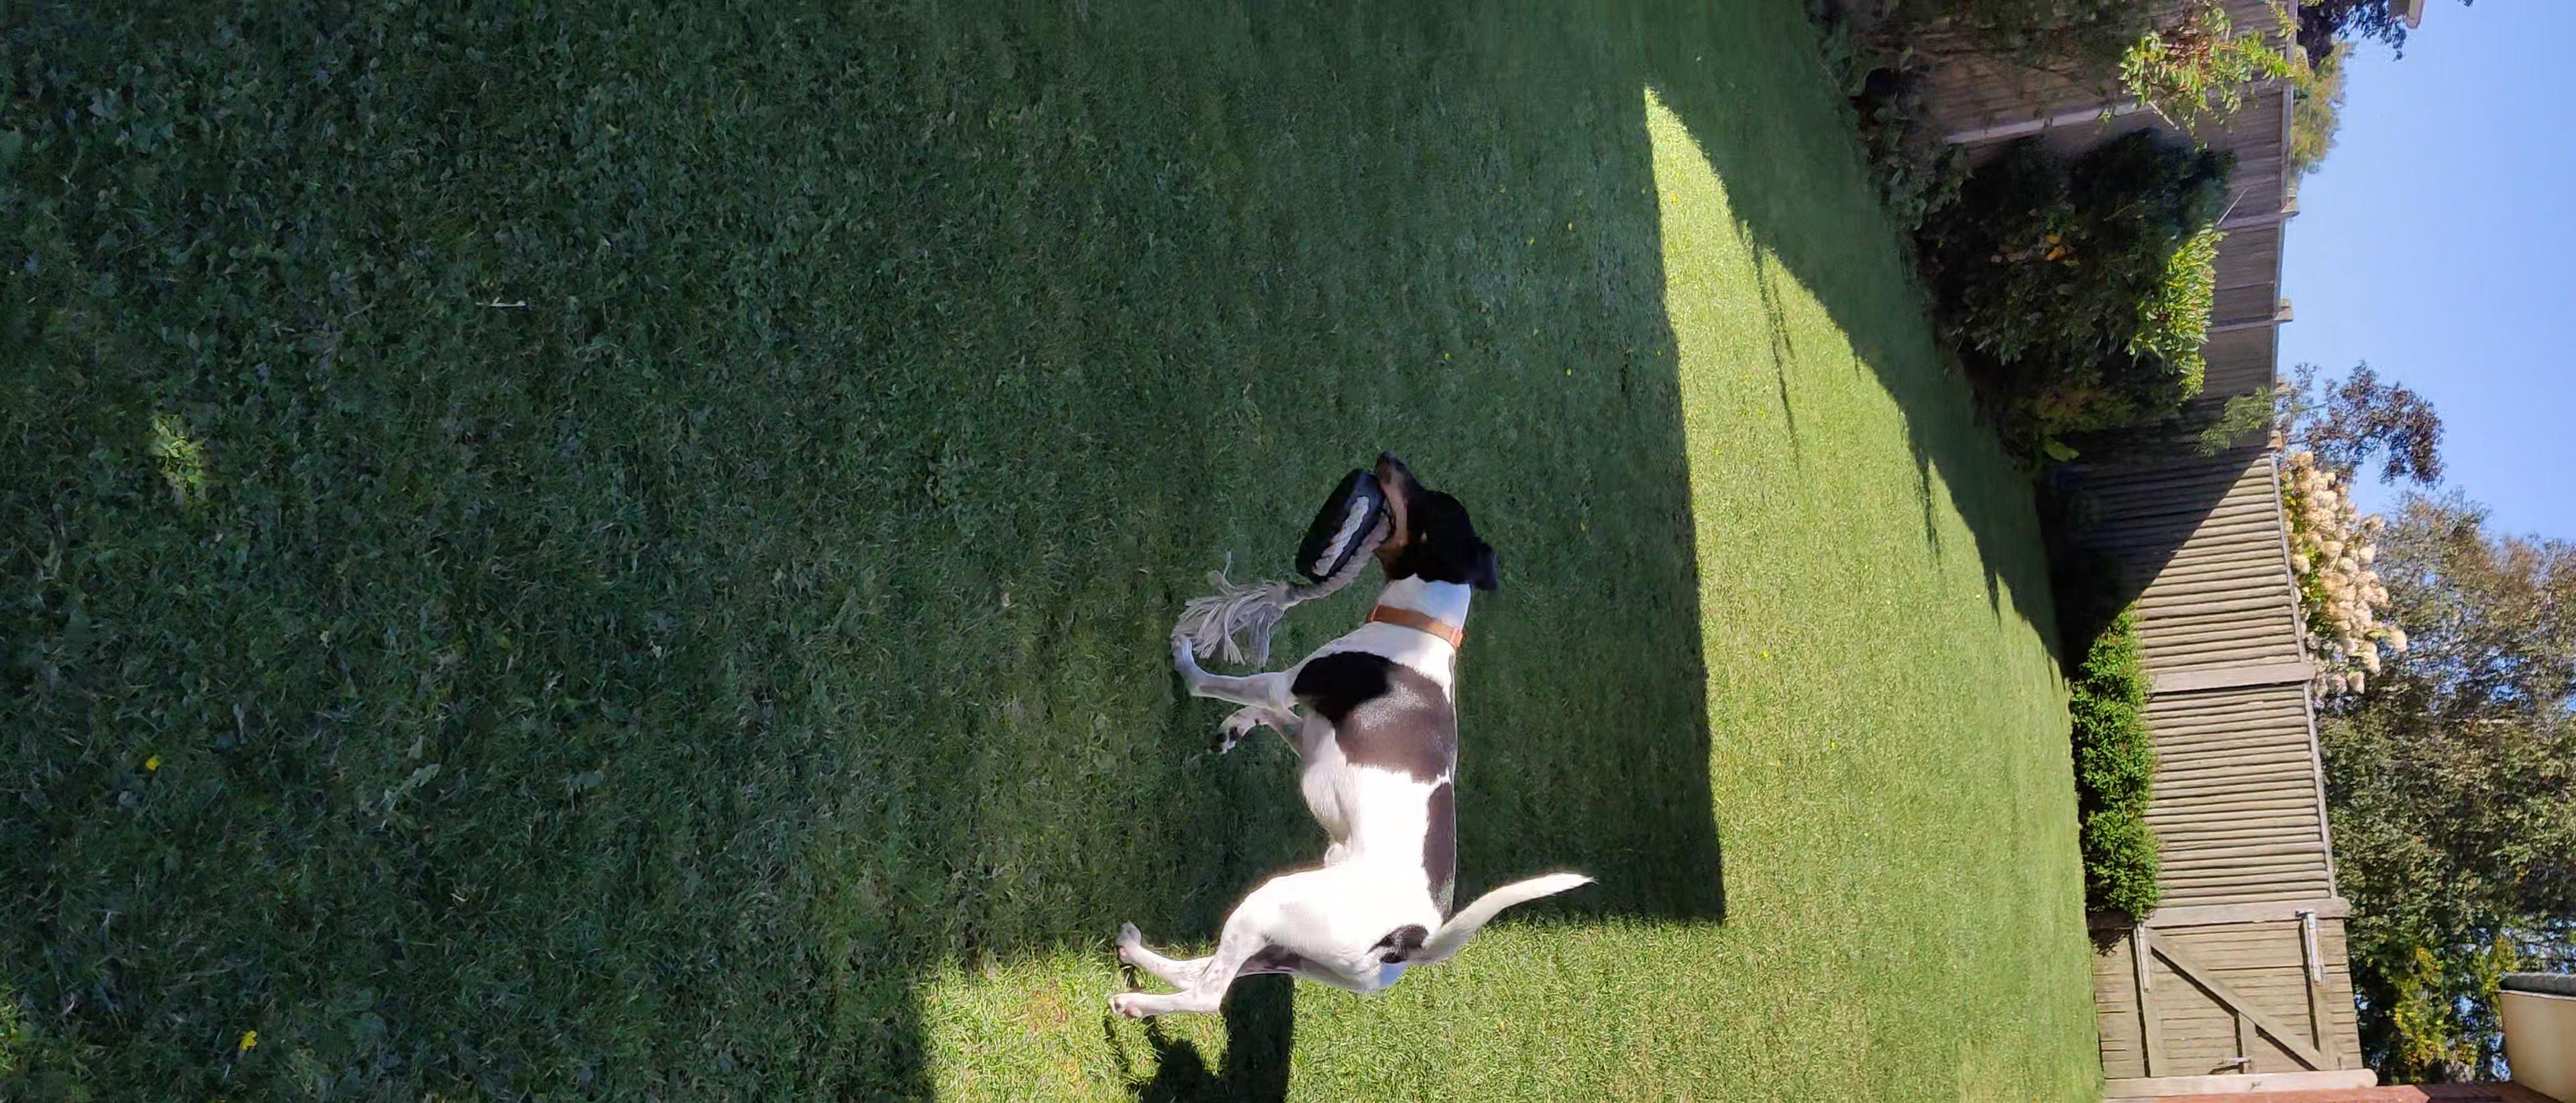Dog: (1086, 442, 1610, 1036)
